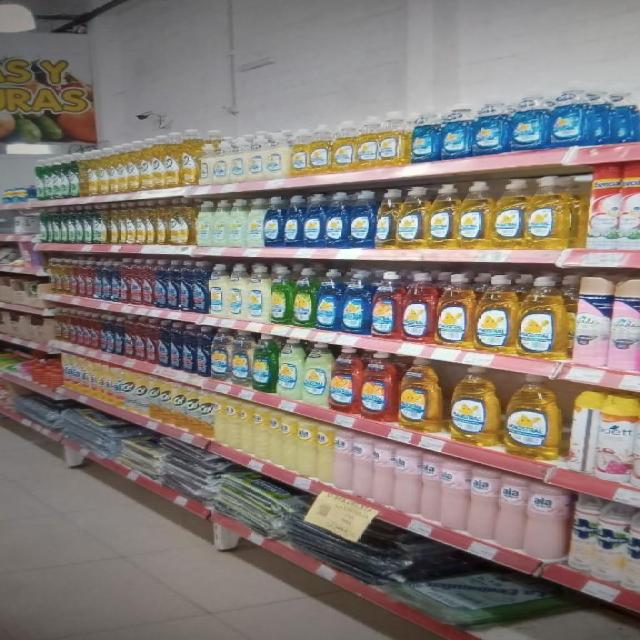ala_conc_azul: (193, 262, 208, 314), (168, 260, 182, 310), (182, 324, 196, 374), (179, 260, 191, 312)
ala_conc_rojo: (136, 259, 150, 307), (130, 259, 142, 305)
ala_crem_amarillo: (296, 418, 316, 477), (317, 424, 333, 484), (252, 406, 269, 460), (281, 412, 296, 472), (268, 410, 281, 465)
ala_crem_rosado: (526, 482, 567, 560), (496, 474, 524, 550), (468, 466, 496, 540), (441, 457, 467, 531), (394, 446, 419, 515), (420, 451, 440, 521), (353, 433, 373, 499), (373, 441, 393, 506), (334, 428, 352, 492)
cif_conc_bot_amarilla: (171, 200, 192, 246), (165, 133, 181, 188), (182, 130, 197, 186), (113, 142, 128, 192), (153, 136, 165, 190), (141, 137, 153, 190), (128, 141, 140, 191), (156, 201, 167, 245), (122, 205, 134, 244), (115, 205, 127, 243), (136, 203, 146, 244), (108, 206, 118, 244), (131, 204, 139, 244)
cif_conc_botella_verde: (95, 206, 106, 244)
magistral_con_amarillo: (503, 374, 562, 461), (518, 274, 568, 360), (448, 364, 499, 446), (398, 357, 444, 432), (527, 175, 571, 250), (475, 274, 516, 354), (437, 273, 473, 348), (458, 180, 492, 250), (494, 178, 526, 250), (428, 184, 458, 249), (397, 187, 427, 250), (376, 189, 397, 249), (231, 331, 251, 387), (332, 122, 354, 172), (355, 119, 377, 169), (310, 125, 331, 174), (290, 129, 310, 177)
magistral_con_azul: (550, 84, 593, 148), (508, 91, 548, 150), (472, 96, 507, 156), (341, 269, 369, 335), (440, 103, 470, 159), (349, 189, 374, 249), (316, 268, 340, 330), (325, 191, 348, 248), (304, 193, 324, 248), (264, 197, 284, 247), (284, 195, 303, 247)
magistral_con_crema: (330, 344, 359, 414), (302, 341, 329, 406), (246, 265, 268, 321), (227, 263, 245, 319), (229, 198, 247, 246)
magistral_con_rojo: (360, 350, 397, 422), (402, 271, 435, 343), (370, 270, 400, 339)
